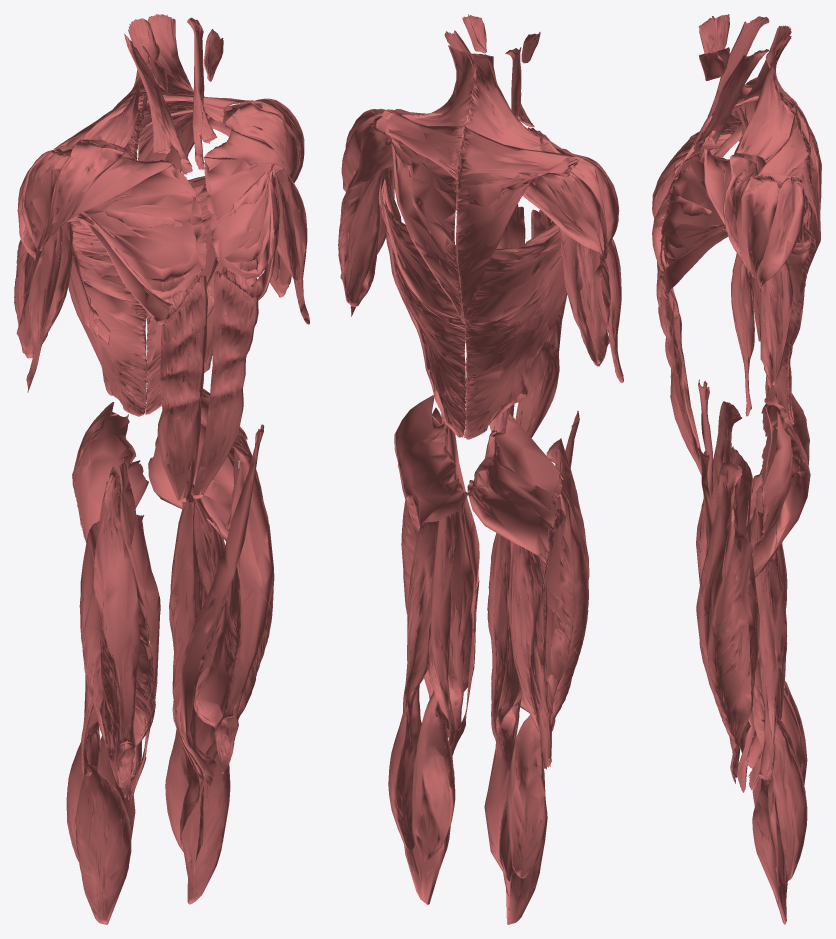
File: muscular.glb
3 views of the same model, side by side, from view 1: azimuth 30°, elevation 25°; view 2: azimuth 150°, elevation 25°; view 3: azimuth 270°, elevation 25° (orthographic). The views are drawn at different scales.
Parts seen in each view (by area): view 1: quadriceps, peitoral, abdominal, gemeos, grandedorsal, deltoide, sartorio, trapezio, gluteo, isquiotibiais, biceps, ecm (+2 smaller); view 2: trapezio, grandedorsal, isquiotibiais, gemeos, gluteo, quadriceps, deltoide, triceps, abdominal, sartorio, biceps, ecm (+1 smaller); view 3: quadriceps, peitoral, gemeos, deltoide, trapezio, isquiotibiais, gluteo, grandedorsal, abdominal, ecm, triceps, biceps (+2 smaller).
Boxes of the visible parts, x1=… form: quadriceps: x1=79, y1=435, x2=274, y2=797; peitoral: x1=66, y1=129, x2=286, y2=325; abdominal: x1=157, y1=253, x2=258, y2=501; gemeos: x1=66, y1=705, x2=230, y2=924; grandedorsal: x1=68, y1=176, x2=235, y2=416; deltoide: x1=17, y1=98, x2=304, y2=259; sartorio: x1=116, y1=424, x2=264, y2=806; trapezio: x1=54, y1=14, x2=261, y2=172; gluteo: x1=72, y1=388, x2=247, y2=566; isquiotibiais: x1=81, y1=483, x2=235, y2=800; biceps: x1=26, y1=113, x2=309, y2=392; ecm: x1=124, y1=17, x2=217, y2=174; trapezio: x1=375, y1=45, x2=576, y2=323; grandedorsal: x1=378, y1=172, x2=567, y2=439; isquiotibiais: x1=403, y1=503, x2=551, y2=769; gemeos: x1=388, y1=677, x2=547, y2=924; gluteo: x1=394, y1=395, x2=563, y2=567; quadriceps: x1=401, y1=407, x2=589, y2=737; deltoide: x1=341, y1=108, x2=619, y2=258; triceps: x1=338, y1=166, x2=610, y2=366; abdominal: x1=489, y1=204, x2=567, y2=437; sartorio: x1=441, y1=410, x2=579, y2=755; biceps: x1=350, y1=131, x2=623, y2=382; ecm: x1=444, y1=30, x2=534, y2=127; quadriceps: x1=696, y1=401, x2=759, y2=783; peitoral: x1=652, y1=110, x2=743, y2=299; gemeos: x1=752, y1=681, x2=807, y2=924; deltoide: x1=723, y1=77, x2=804, y2=288; trapezio: x1=736, y1=25, x2=821, y2=273; isquiotibiais: x1=746, y1=484, x2=787, y2=790; gluteo: x1=746, y1=393, x2=810, y2=585; grandedorsal: x1=749, y1=154, x2=816, y2=424; abdominal: x1=656, y1=243, x2=701, y2=474; ecm: x1=693, y1=16, x2=769, y2=154; triceps: x1=760, y1=248, x2=793, y2=388; biceps: x1=731, y1=87, x2=754, y2=416.
Size of the model in its own units: 4.44 by 13.53 by 2.38.
